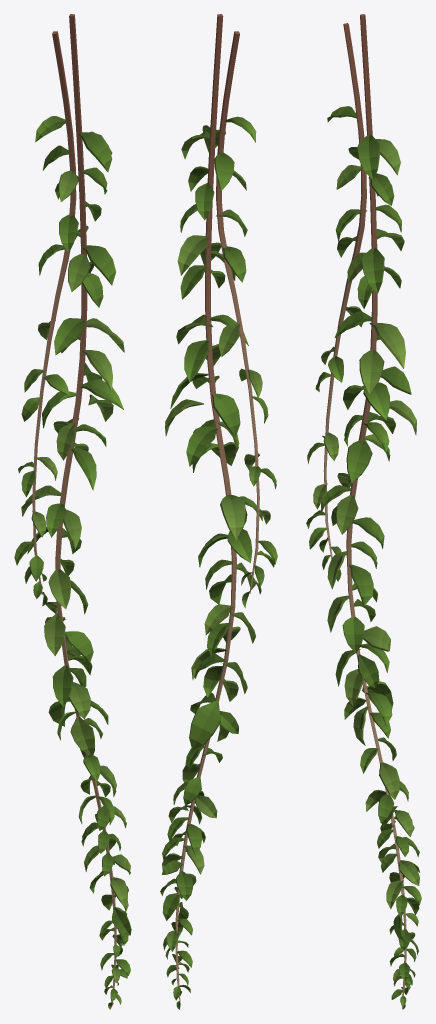
File: Cavern_Vines-01.fbx
3 renders of one model, left to right at view 1: azimuth 30°, elevation 25°; view 2: azimuth 150°, elevation 25°; view 3: azimuth 330°, elevation 25°, orthographic.
Parts seen in each view (by area): view 1: Cavern_Vines-01; view 2: Cavern_Vines-01; view 3: Cavern_Vines-01.
Boxes of the visible parts, x1,y1,x2,y2 form: Cavern_Vines-01: [14, 14, 131, 1009]; Cavern_Vines-01: [160, 14, 277, 1009]; Cavern_Vines-01: [306, 14, 421, 1009].
Bounding box in the file's own units: 109 × 919 × 62.51.
1 material, 1 textured.
